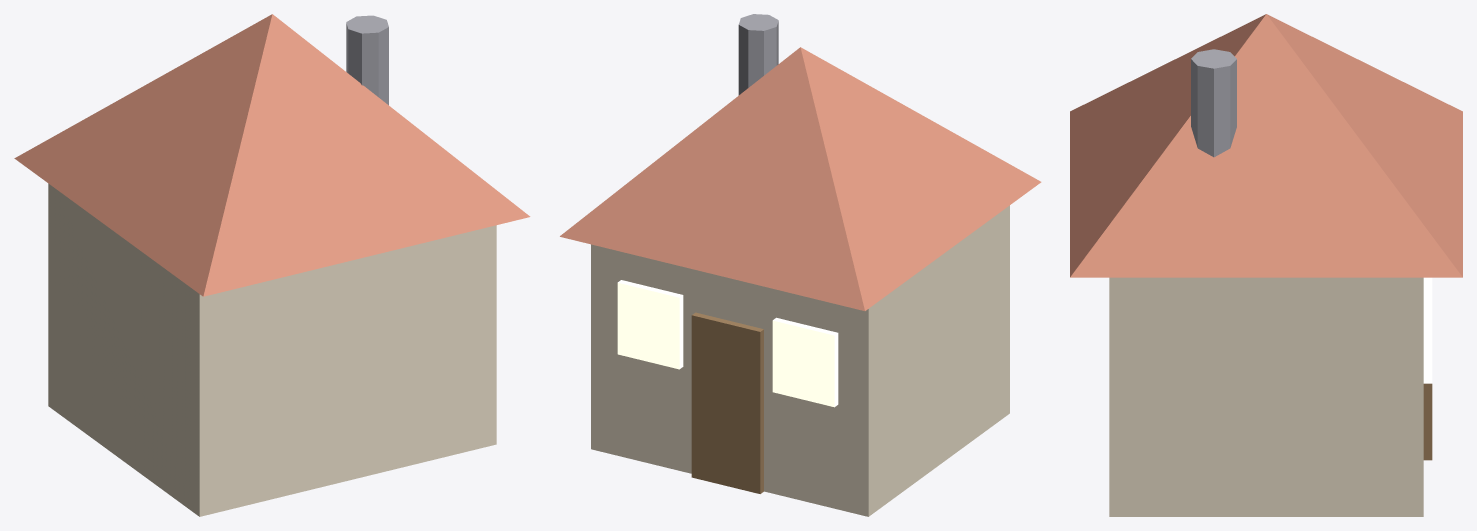
The model's file is house.glb.
3 renders of one model, left to right at view 1: azimuth 30°, elevation 25°; view 2: azimuth 150°, elevation 25°; view 3: azimuth 270°, elevation 25°, orthographic. The views are drawn at different scales.
Visible parts, largest first — view 1: Walls, Roof, Chimney; view 2: Roof, Walls, Door, WinL, WinR, Chimney; view 3: Roof, Walls, Chimney, WinR, Door.
Part boxes in pixels (x1,y1,x2,y2): Walls: (48, 183, 496, 516); Roof: (14, 14, 530, 296); Chimney: (346, 15, 388, 105); Roof: (560, 47, 1041, 310); Walls: (591, 205, 1009, 516); Door: (691, 312, 763, 493); WinL: (772, 317, 838, 407); WinR: (617, 280, 683, 369); Chimney: (738, 14, 778, 95); Roof: (1070, 14, 1462, 277); Walls: (1109, 277, 1423, 516); Chimney: (1191, 49, 1236, 157); WinR: (1423, 277, 1432, 383); Door: (1423, 383, 1432, 460).
Bounding box in the file's own units: 3.75 × 4.5 × 3.75.
